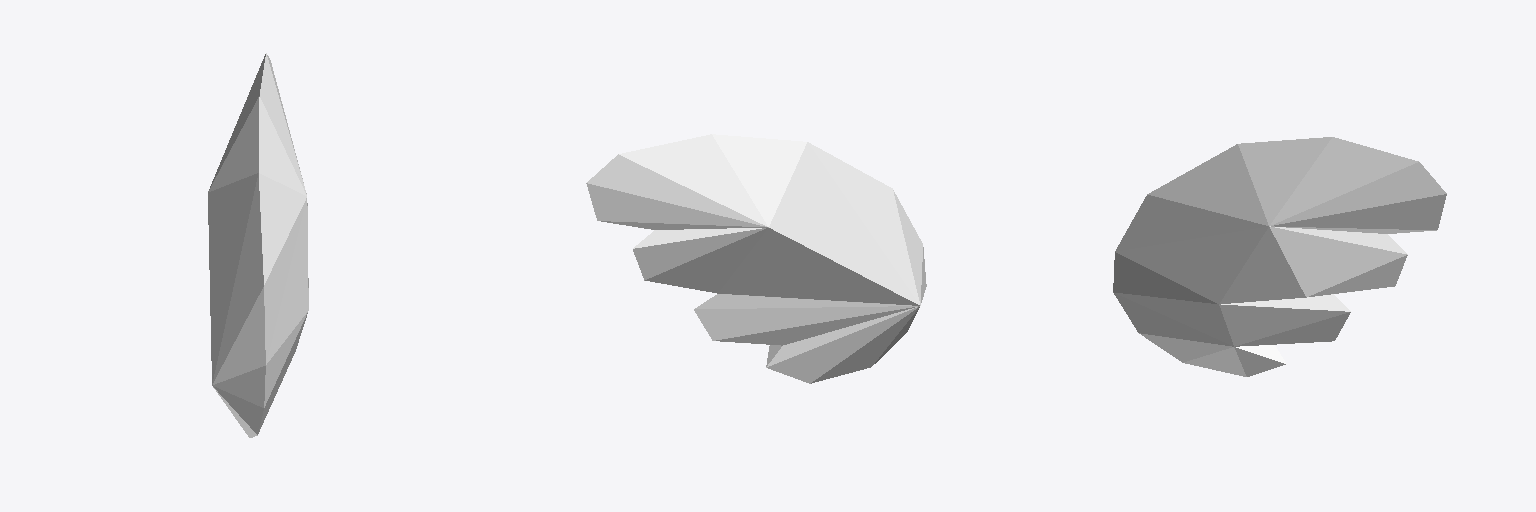
3 renders of one model, left to right at view 1: azimuth 30°, elevation 25°; view 2: azimuth 150°, elevation 25°; view 3: azimuth 270°, elevation 25°, orthographic.
Visible parts, largest first — view 1: AlaIzquierda:polySurface448; view 2: AlaIzquierda:polySurface448; view 3: AlaIzquierda:polySurface448.
Part boxes in pixels (x1,y1,x2,y2): AlaIzquierda:polySurface448: (208, 53, 308, 437); AlaIzquierda:polySurface448: (586, 134, 926, 383); AlaIzquierda:polySurface448: (1113, 137, 1446, 376).
Bounding box in the file's own units: 0.0305 × 0.0397 × 0.0448.
1 materials, 1 textured.